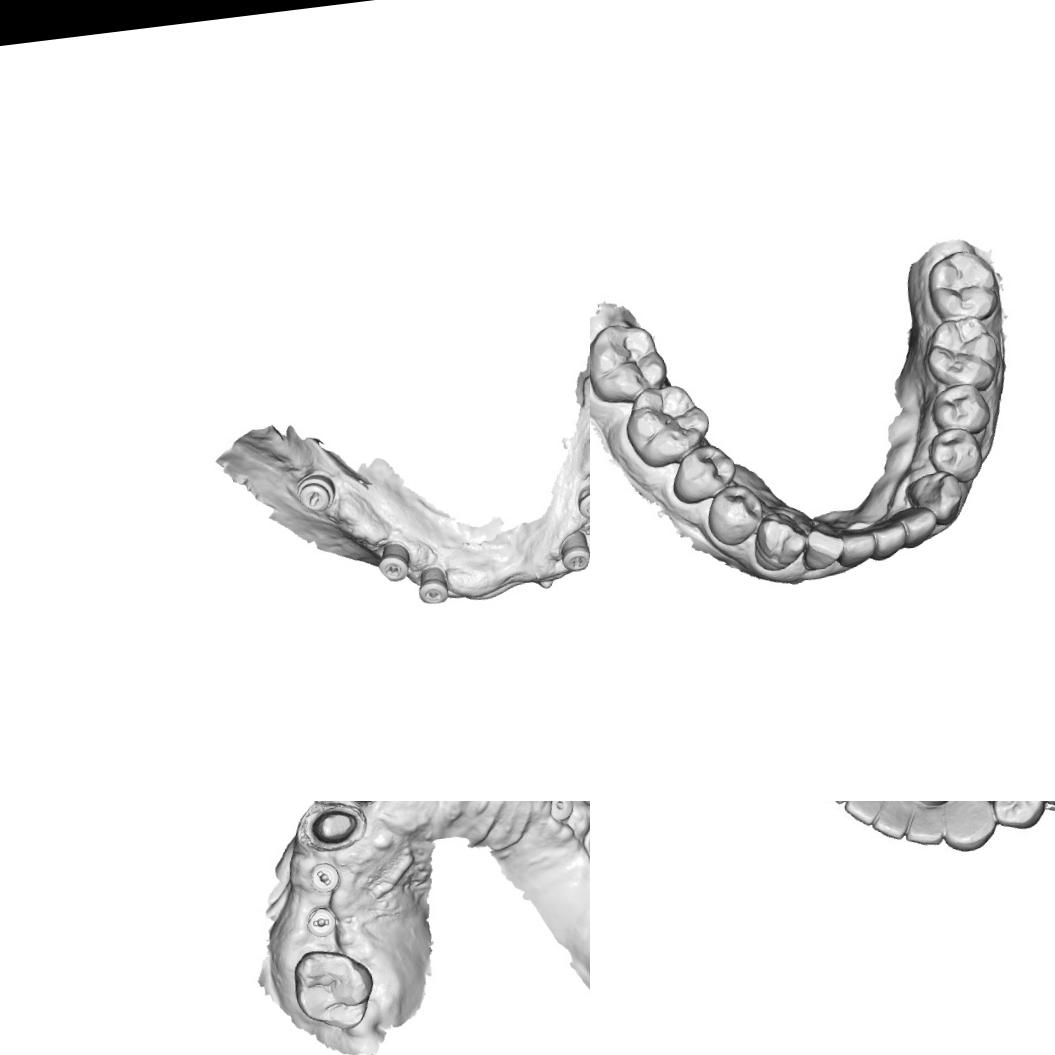canine: (750, 510, 809, 574), (903, 470, 968, 528), (935, 801, 997, 856)
crown: (306, 801, 364, 849)
implant: (414, 564, 451, 608), (545, 801, 576, 825)
implant_minus: (292, 471, 337, 515), (557, 528, 590, 574), (302, 904, 339, 940), (308, 860, 344, 896), (574, 481, 590, 523)
implant_plus: (374, 539, 414, 585)
incisor: (798, 522, 846, 578), (900, 801, 946, 850), (836, 526, 876, 574), (869, 801, 913, 843), (868, 518, 908, 564), (898, 506, 940, 548), (841, 801, 890, 828)
molar: (288, 942, 380, 1037), (622, 378, 714, 471), (590, 317, 670, 407), (922, 244, 1008, 324), (924, 319, 1003, 396)
premolar: (664, 440, 740, 507), (929, 382, 995, 440), (926, 427, 984, 486), (705, 487, 762, 547), (989, 801, 1047, 835)
